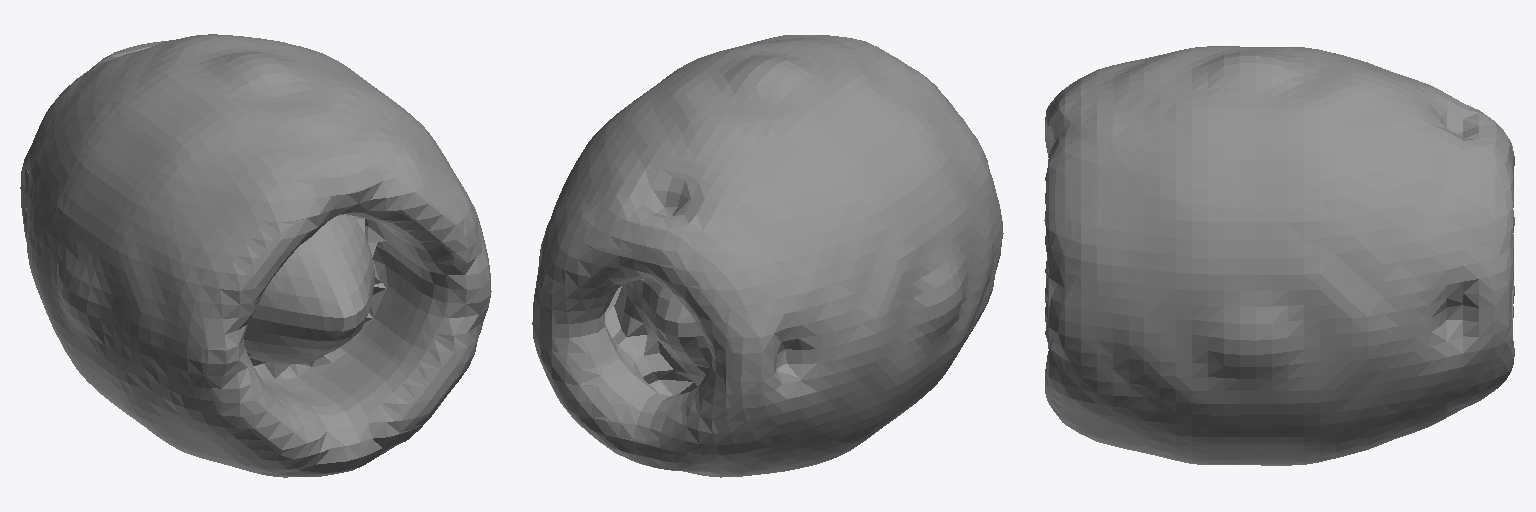
The robot description file, URDF, robot "cube.urdf":
<?xml version="0.0" ?> 
<robot name="cube.urdf"> 
<link name="legobrick"> 
<contact> 
<lateral_friction value="5.0"/> 
<rolling_friction value="0.0"/> 
<contact_cfm value="0.0"/> 
<contact_erp value="1.0"/> 
</contact> 
<inertial> 
<origin rpy="0 0 0" xyz="0.0 0.0 0.0"/> 
<mass value=".01"/> 
<inertia ixx="1" ixy="0" ixz="0" iyy="1" iyz="0" izz="1"/> 
</inertial> 
<visual> 
<origin rpy="1.570796 0 0" xyz="-0.0284031296768988 0.02953404323095009 -0.02837107703504913"/> 
<geometry> 
<mesh filename="H15_1.obj" scale="0.000675001877448414 0.000675001877448414 0.000675001877448414"/> 
</geometry> 
<material name="yellow"> 
<color rgba="0.6 0.6 0.6 1"/> 
</material> 
</visual> 
<collision> 
<origin rpy="1.570796 0 0" xyz="-0.0284031296768988 0.02953404323095009 -0.02837107703504913"/> 
<geometry> 
<mesh filename="H15_1.obj" scale="0.000675001877448414 0.000675001877448414 0.000675001877448414"/> 
</geometry> 
</collision> 
</link> 
</robot>

--- Render facts (derived) ---
Views: 3 orthographic renders of the robot side by side, from view 1: azimuth 30°, elevation 25°; view 2: azimuth 150°, elevation 25°; view 3: azimuth 270°, elevation 25°.
Model cube.urdf with 1 links and 0 joints (none), rooted at legobrick, posed all joints at 0.
Visible links, largest first — view 1: legobrick; view 2: legobrick; view 3: legobrick.
Boxes of the visible links, <box> form: legobrick: <box>20,34,491,477</box>; legobrick: <box>532,35,1003,477</box>; legobrick: <box>1044,46,1514,465</box>.
Bounding box of the posed robot: 0.056 × 0.0607 × 0.056 m (x, y, z).
1 mesh visuals loaded from 1 distinct referenced files (1 OBJ).
